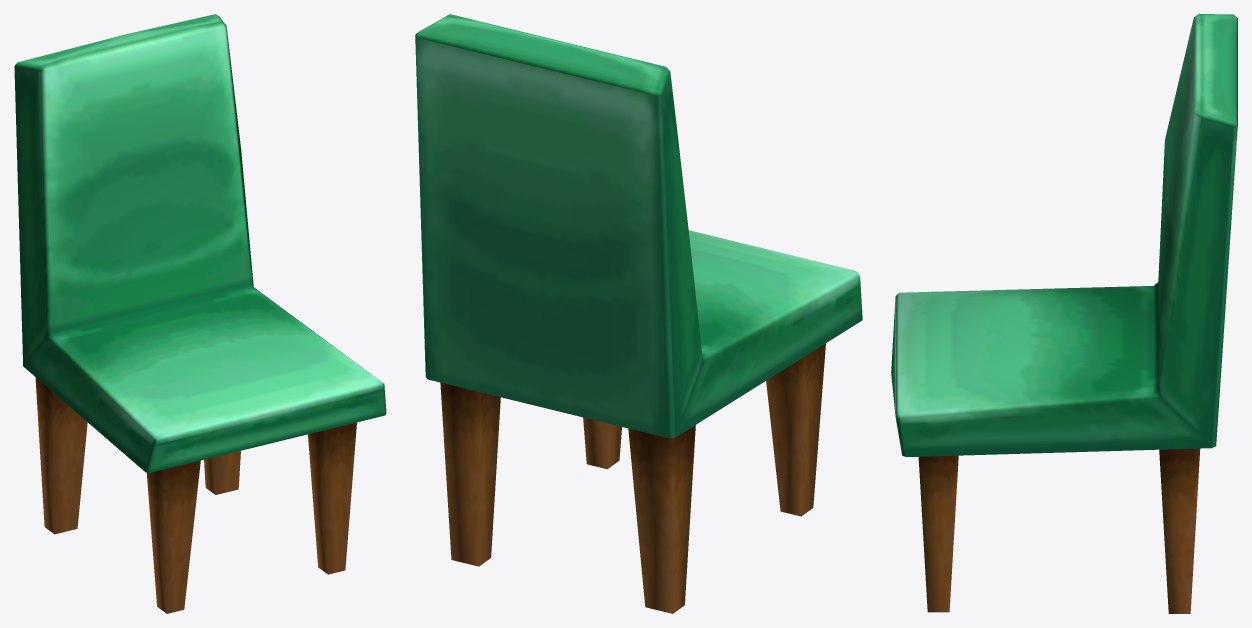
The model's file is rmk_oth_chairS.dae.
The picture shows the model from 3 angles, left to right: view 1: azimuth 30°, elevation 25°; view 2: azimuth 150°, elevation 25°; view 3: azimuth 270°, elevation 25°; orthographic projection. The views are drawn at different scales.
Visible parts, largest first — view 1: rmk_oth_chairS; view 2: rmk_oth_chairS; view 3: rmk_oth_chairS.
Boxes of the visible parts, box(x1,y1,x2,y2) form: rmk_oth_chairS: box(14, 14, 386, 613); rmk_oth_chairS: box(415, 14, 862, 613); rmk_oth_chairS: box(891, 14, 1237, 613).
Bounding box in the file's own units: 20.96 × 38.37 × 23.73.
Materials: 1 (1 with a texture image).
